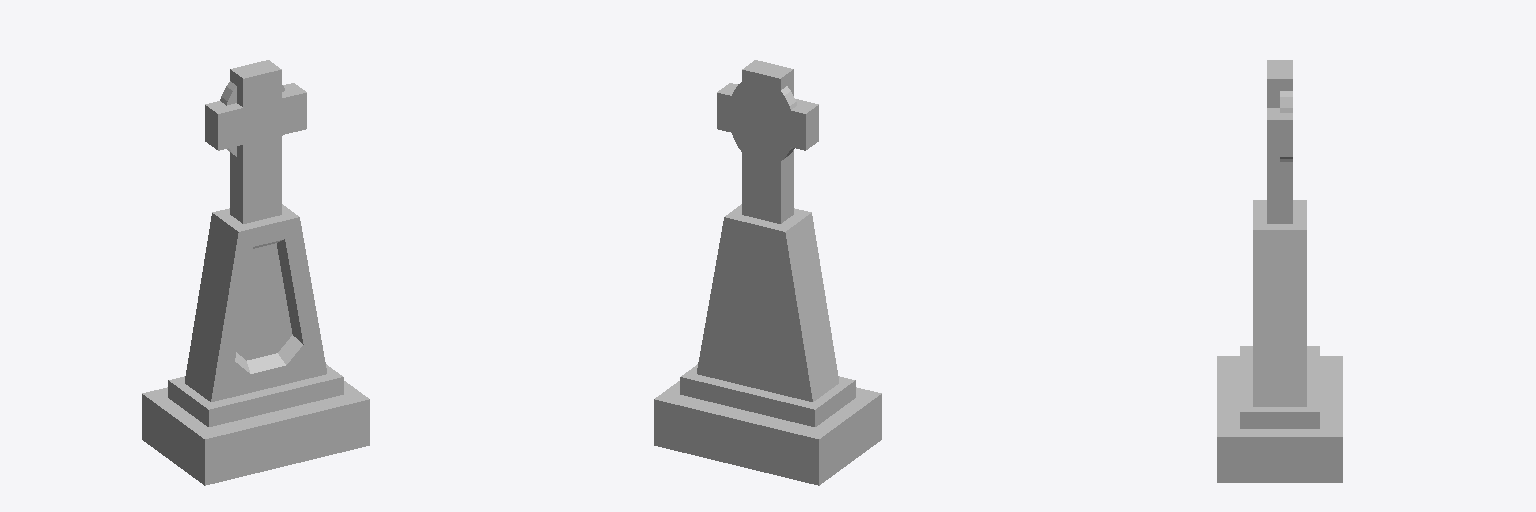
The model's file is gravestoneCross.obj.
3 renders of one model, left to right at view 1: azimuth 30°, elevation 25°; view 2: azimuth 150°, elevation 25°; view 3: azimuth 270°, elevation 25°, orthographic.
Parts seen in each view (by area): view 1: gravestoneCross; view 2: gravestoneCross; view 3: gravestoneCross.
Part boxes in pixels (bbox=[...]): gravestoneCross: bbox=[142, 60, 369, 485]; gravestoneCross: bbox=[654, 60, 881, 485]; gravestoneCross: bbox=[1217, 60, 1342, 482].
Size of the model in its own units: 0.4415 by 0.9543 by 0.2913.